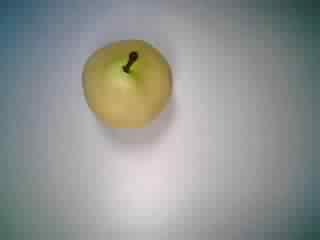pear: (77, 32, 180, 140)
